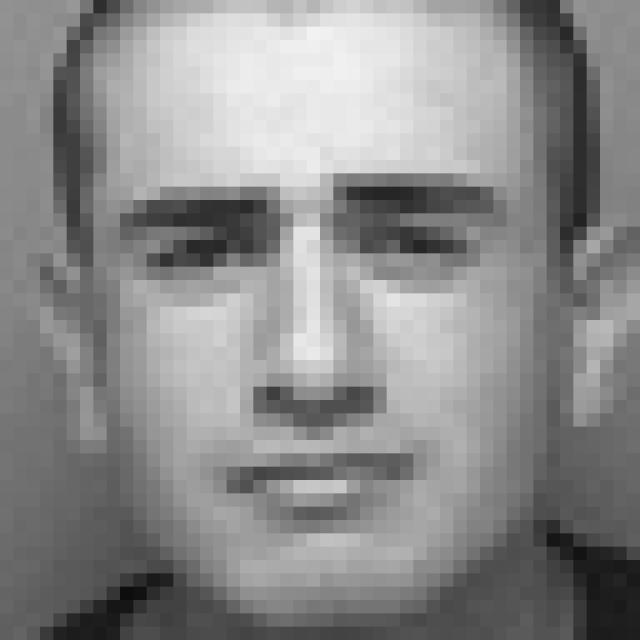neutral: (117, 166, 510, 531)
